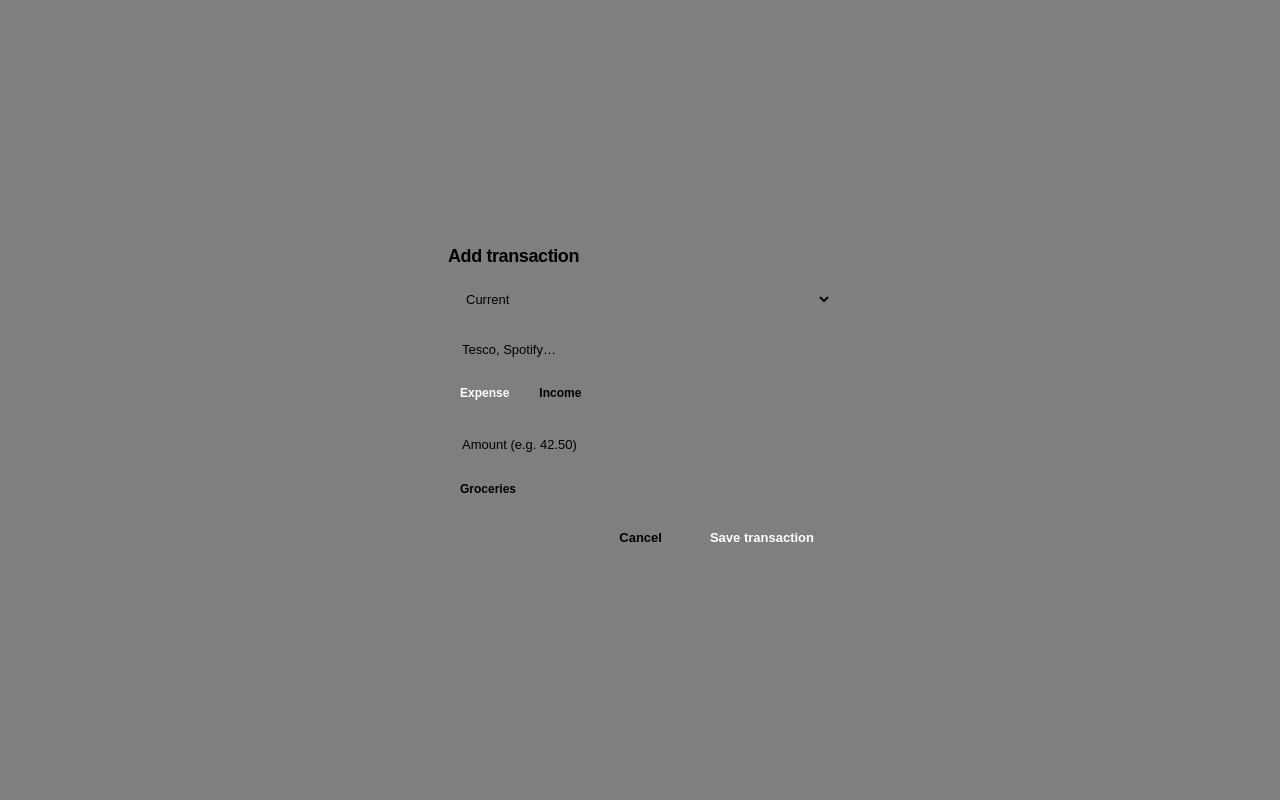
Test: AddModal › surfaces an error toast when recording fails, keeping the modal open
This screenshot has width=1280, height=800.
Type "Tesco" into the field with placeholder "Tesco, Spotify…".
click(640, 349); type("Tesco")  # box [448,330,832,369]
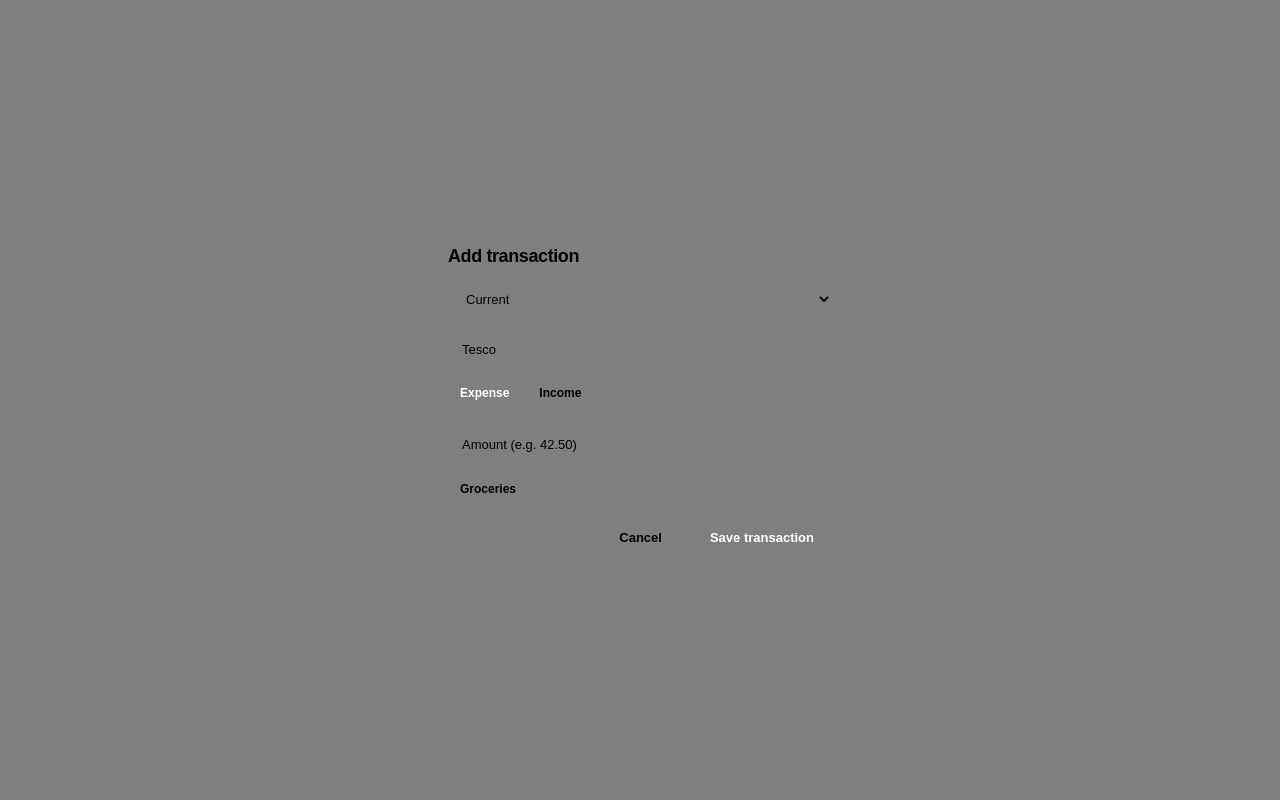
Type "42.50" into the field with placeholder "Amount (e.g. 42.50)".
click(640, 445); type("42.50")  # box [448,425,832,464]
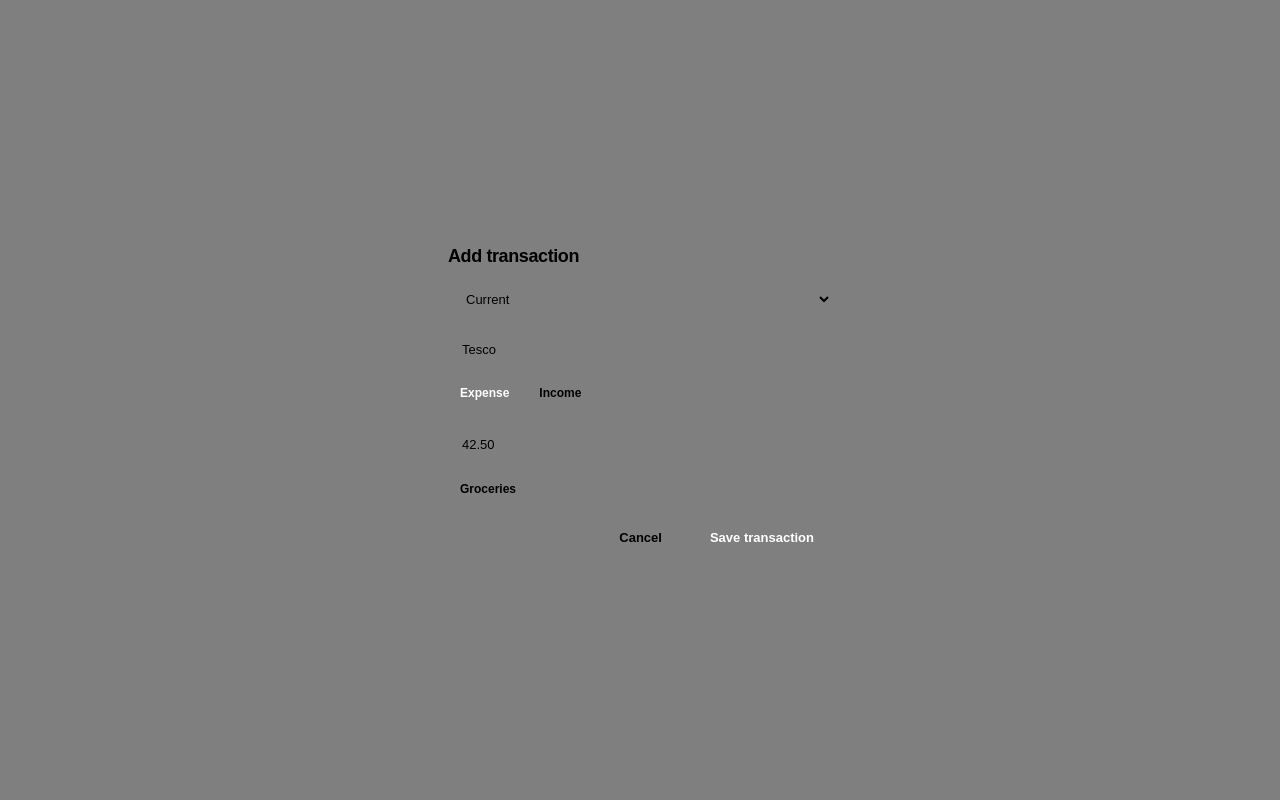
Click the button "Save transaction".
click(762, 537)  # box [692,520,832,554]
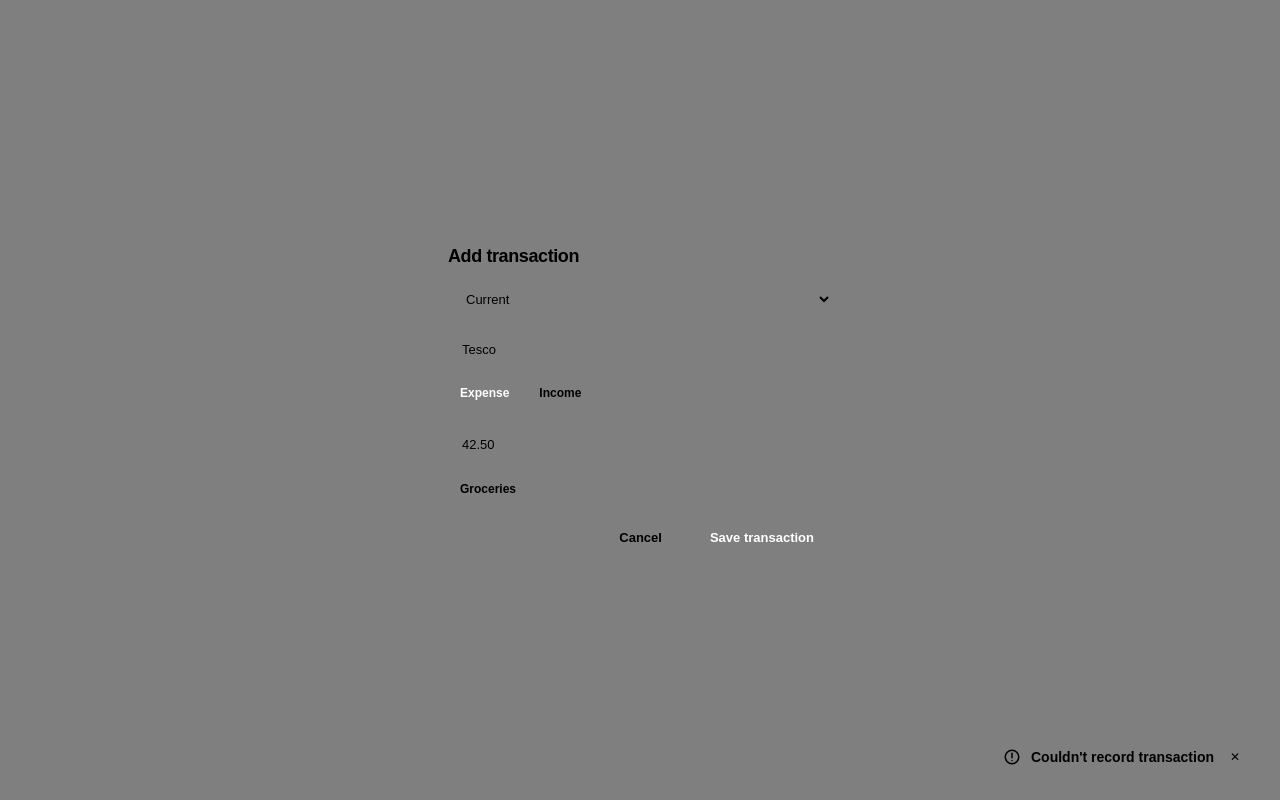
Result: the text "Couldn't record transaction" is shown at [1031,748,1214,766]
